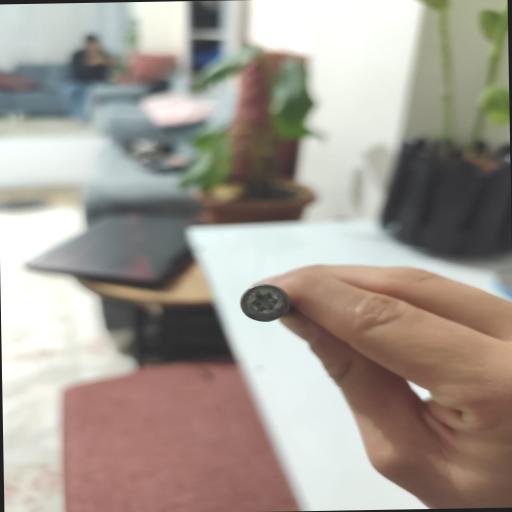Torx: (240, 282, 290, 322)
